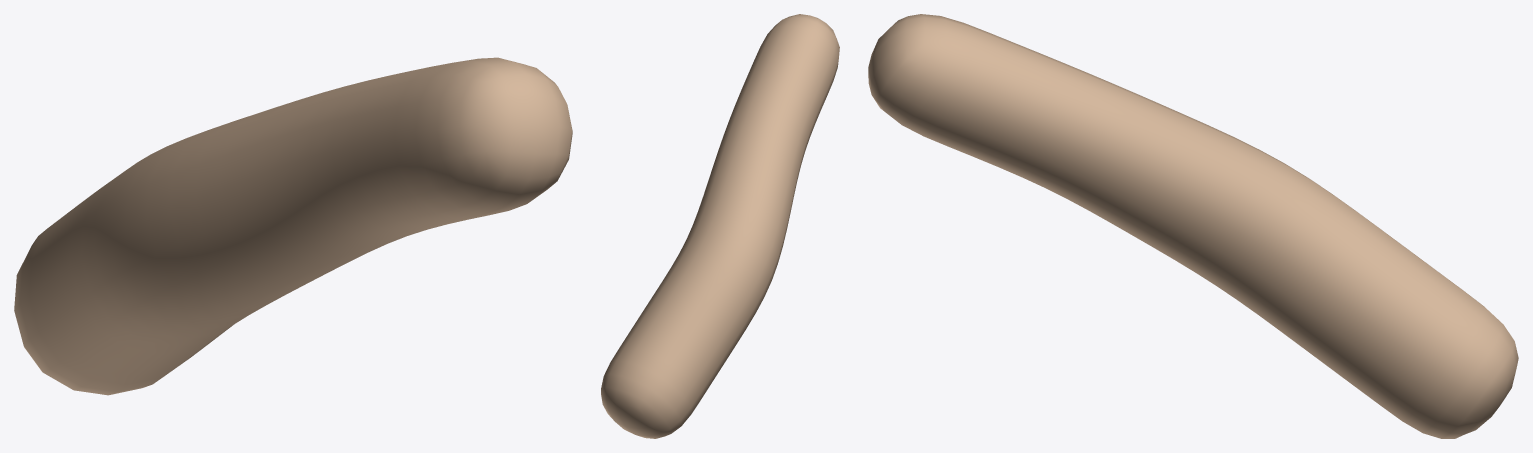
3 views of the same model, side by side, from view 1: azimuth 30°, elevation 25°; view 2: azimuth 150°, elevation 25°; view 3: azimuth 270°, elevation 25° (orthographic). The views are drawn at different scales.
Parts seen in each view (by area): view 1: 右侧尺侧腕伸肌腱鞘; view 2: 右侧尺侧腕伸肌腱鞘; view 3: 右侧尺侧腕伸肌腱鞘.
Part boxes in pixels (box(x1,y1,x2,y2)): 右侧尺侧腕伸肌腱鞘: box(14, 57, 572, 395); 右侧尺侧腕伸肌腱鞘: box(601, 14, 839, 438); 右侧尺侧腕伸肌腱鞘: box(868, 14, 1518, 438).
Bounding box in the file's own units: 0.0106 × 0.0265 × 0.0366.
